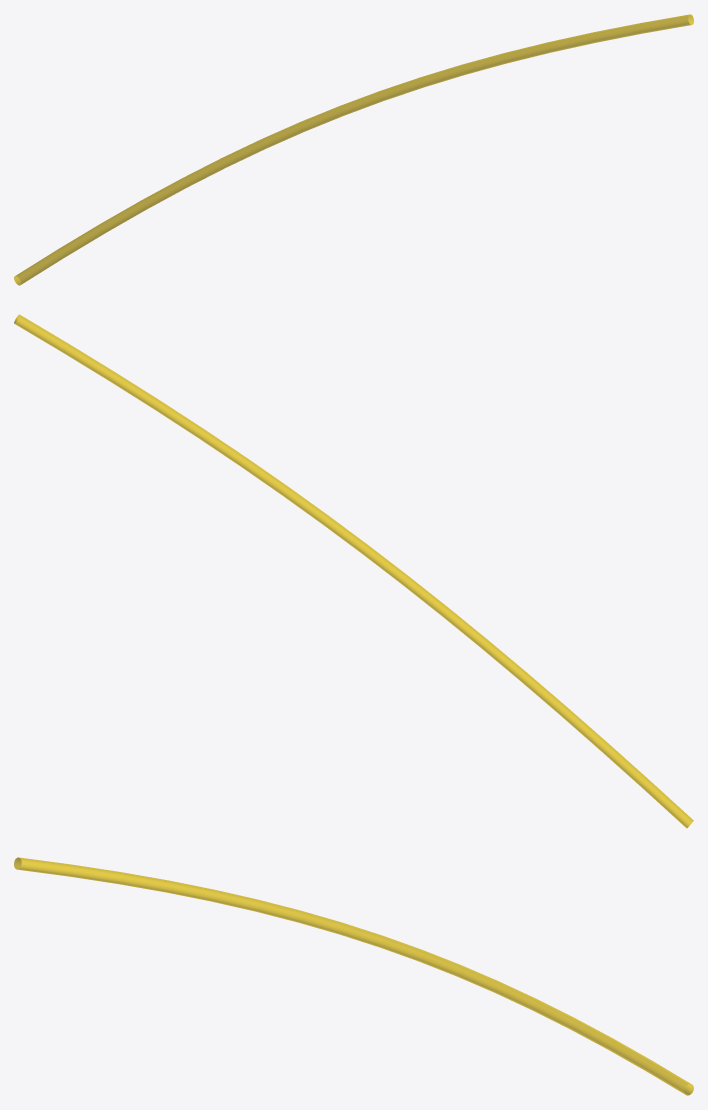
File: Event_100608114_track_30.fbx
The picture shows the model from 3 angles, top to bottom: view 1: azimuth 30°, elevation 25°; view 2: azimuth 210°, elevation 25°; view 3: azimuth 270°, elevation 25°; orthographic projection. The views are drawn at different scales.
Parts seen in each view (by area): view 1: Model; view 2: Model; view 3: Model.
Boxes of the visible parts, x1,y1,x2,y2 form: Model: (14, 14, 693, 285); Model: (14, 314, 693, 828); Model: (14, 857, 693, 1095).
Size of the model in its own units: 1.66 by 1.6 by 2.2.
